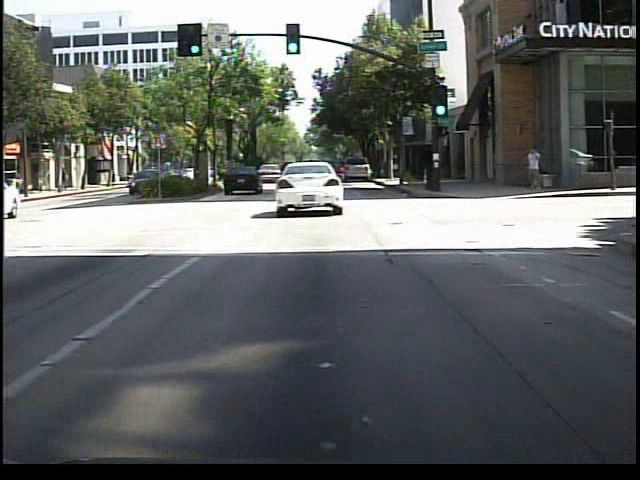person: (523, 144, 547, 195)
